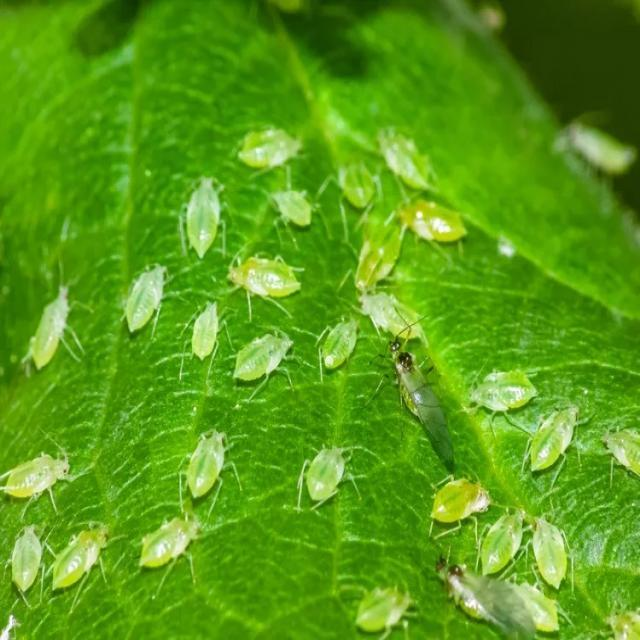Aphids: (1, 418, 256, 612), (121, 254, 363, 392), (329, 128, 482, 294), (429, 439, 602, 584), (469, 364, 582, 470), (17, 278, 98, 378), (178, 168, 238, 272), (294, 414, 353, 512), (228, 112, 314, 172), (350, 566, 414, 636)
